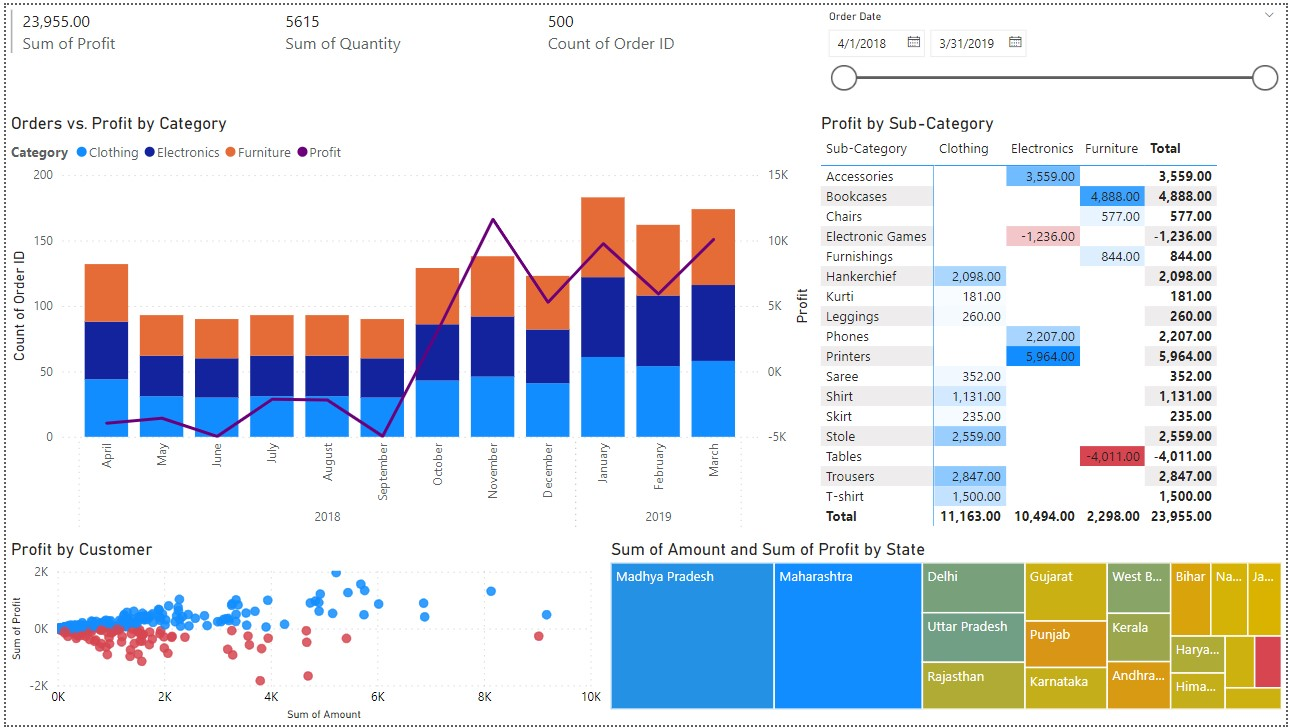

This screenshot's page, from the dashboard's own definition file:
{"tool":"powerbi","page":{"name":"Profit Analysis","canvas":[1280,720],"ordinal":0},"visuals":[{"type":"multiRowCard","fields":{"Values":["Order Details (3).Profit","Sum(Order Details (3).Quantity)","List of Orders.Order ID"]},"box":[0,0,809.2,61.1],"z":0},{"type":"lineStackedColumnComboChart","title":"Orders vs. Profit by Category","fields":{"Category":["List of Orders.Order Date.Variation.Date Hierarchy.Year","List of Orders.Order Date.Variation.Date Hierarchy.Month"],"Y2":["Sum(Order Details (3).Profit)"],"Series":["Order Details (3).Category"],"Y":["CountNonNull(List of Orders.Order ID)"]},"box":[0,107.5,808.8,426.2],"z":1000},{"type":"pivotTable","title":"Profit by Sub-Category","fields":{"Rows":["Order Details (3).Sub-Category"],"Columns":["Order Details (3).Category"],"Values":["Sum(Order Details (3).Profit)"]},"box":[809.6,107,470.7,426.8],"z":2000},{"type":"scatterChart","title":"Profit by Customer","fields":{"Category":["List of Orders.CustomerName"],"X":["Sum(Order Details (3).Amount)"],"Y":["Sum(Order Details (3).Profit)"]},"box":[0,533.3,600,186.7],"z":3000},{"type":"treemap","fields":{"Values":["Sum(Order Details (3).Amount)"],"Group":["List of Orders.State"]},"box":[599.7,533.8,680.6,175.6],"z":4000},{"type":"slicer","fields":{"Values":["List of Orders.Order Date"]},"box":[809.6,0,470.7,107],"z":5000}]}

Visuals, with their boxes in screenshot pixels (x1, y1, x2, y2), scaled from the page's 1280x720 canvas onto the 1290x728 screenshot:
multiRowCard - Order Details (3).Profit x Sum(Order Details (3).Quantity): 0/0/816/62
"Orders vs. Profit by Category" lineStackedColumnComboChart: 0/109/815/540
"Profit by Sub-Category" pivotTable: 816/108/1289/540
"Profit by Customer" scatterChart: 0/539/605/727
treemap - Sum(Order Details (3).Amount) x List of Orders.State: 604/540/1289/717
slicer - List of Orders.Order Date: 816/0/1289/108
